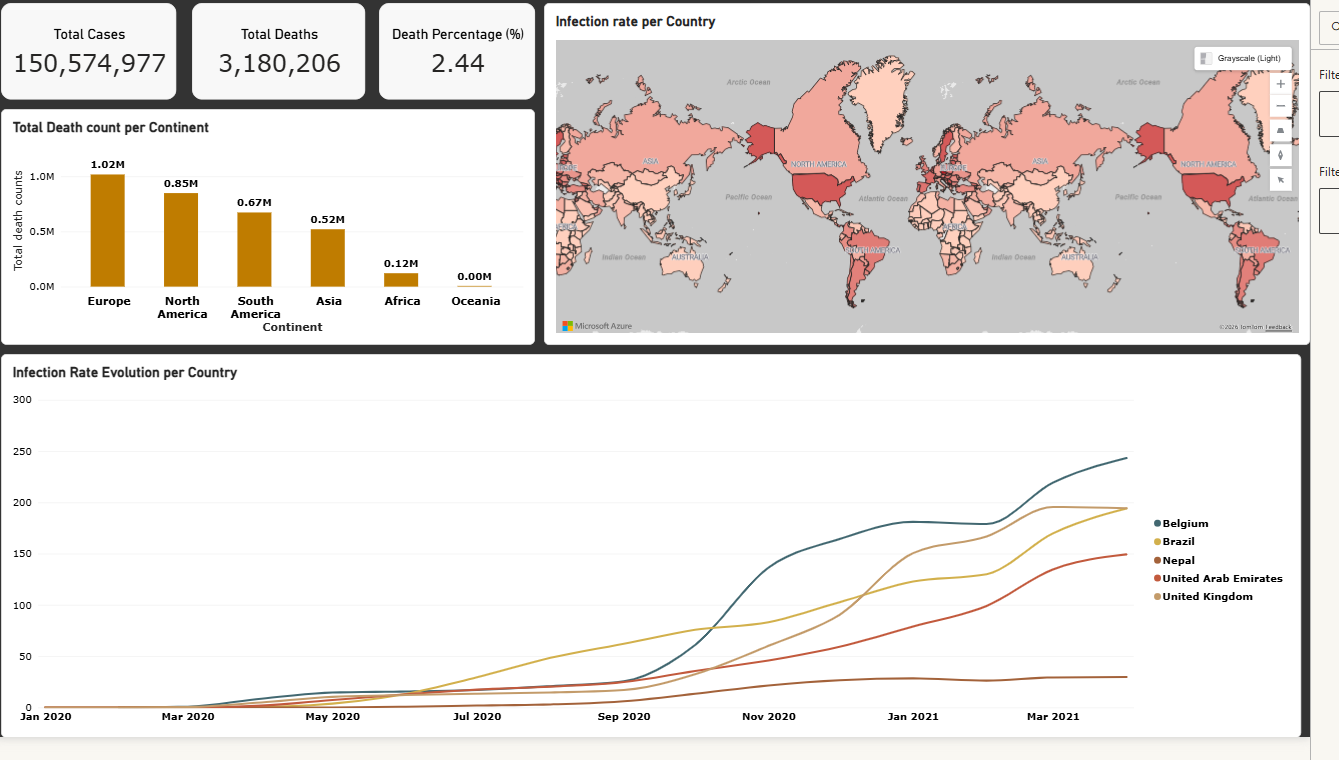

This screenshot's page, from the dashboard's own definition file:
{"tool":"powerbi","page":{"name":"Page 1","canvas":[1920,1080],"ordinal":0},"visuals":[{"type":"cardVisual","title":"Total Cases","fields":{"Data":["Sum(table1.total_cases)"]},"box":[10.6,8.9,256.8,141.7],"z":0},{"type":"clusteredColumnChart","title":"Total Death count per Continent","fields":{"Category":["table 2.location"],"Y":["Sum(table 2.total_death_count)"]},"box":[10.8,163.6,779.4,344.2],"z":3000},{"type":"azureMap","title":"Infection rate per Country","fields":{"Category":["table3.location"]},"box":[802.4,8.9,1117.6,499.5],"z":4000},{"type":"lineChart","title":"Infection Rate Evolution per Country","fields":{"Category":["table 4.date.Variation.Date Hierarchy.Year","table 4.date.Variation.Date Hierarchy.Month"],"Series":["table 4.location"],"Y":["Sum(table 4.infection_rate)"]},"box":[10.6,520.7,1897,559.7],"z":5000},{"type":"cardVisual","title":"Total Cases","fields":{"Data":["Sum(table1.total_deaths)"]},"box":[288.7,8.9,253.3,141.7],"z":5001},{"type":"cardVisual","title":"Total Cases","fields":{"Data":["Sum(table1.death_percentage)"]},"box":[561.5,8.9,228.5,141.7],"z":5002}]}

Visuals, with their boxes in screenshot pixels (x1, y1, x2, y2):
"Total Cases" cardVisual: x1=0 y1=0 x2=173 y2=97
"Total Death count per Continent" clusteredColumnChart: x1=0 y1=106 x2=533 y2=342
"Infection rate per Country" azureMap: x1=541 y1=0 x2=1310 y2=343
"Infection Rate Evolution per Country" lineChart: x1=0 y1=351 x2=1301 y2=736
"Total Cases" cardVisual: x1=188 y1=0 x2=362 y2=97
"Total Cases" cardVisual: x1=376 y1=0 x2=533 y2=97
